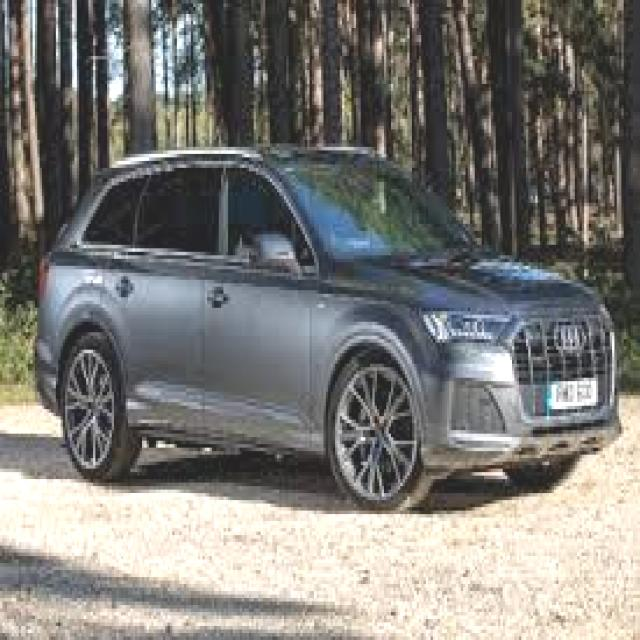SUV: (31, 136, 622, 514)
